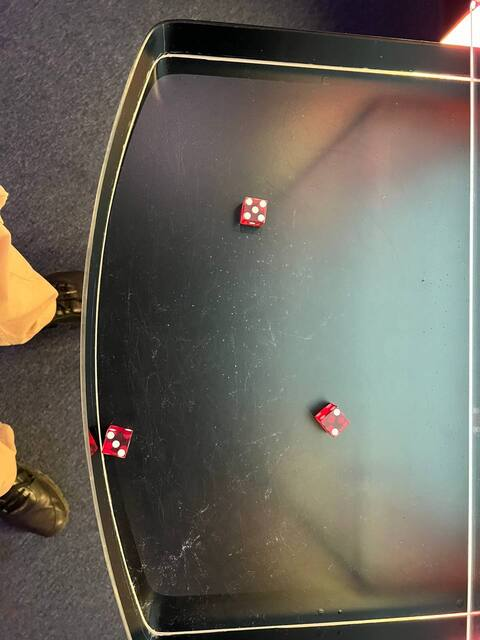five: (240, 198, 268, 226)
three: (100, 429, 133, 458)
two: (322, 405, 353, 438)
